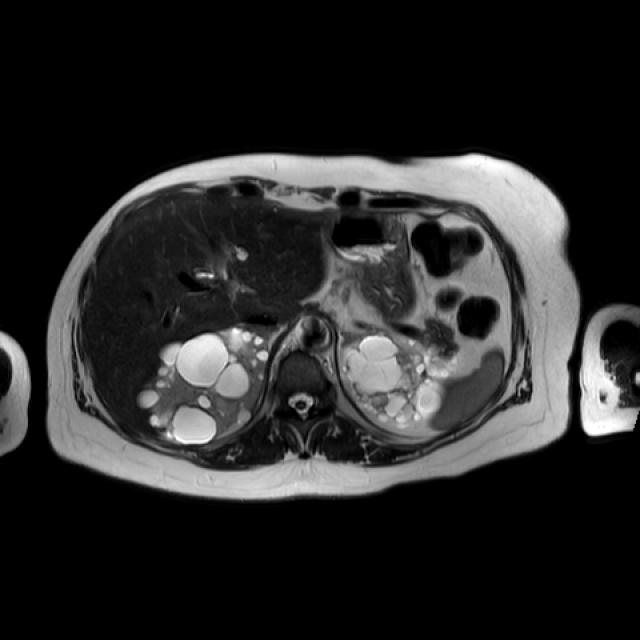sag: (138, 325, 269, 444)
sol: (338, 329, 450, 427)
